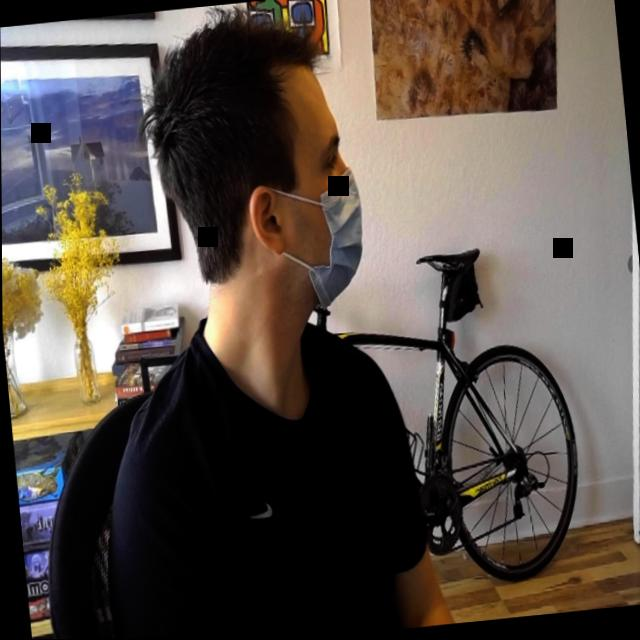Mask: (254, 61, 369, 315)
